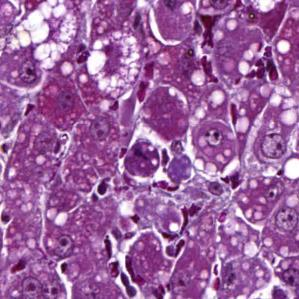ballooning: (14, 1, 79, 71), (84, 28, 148, 99)
